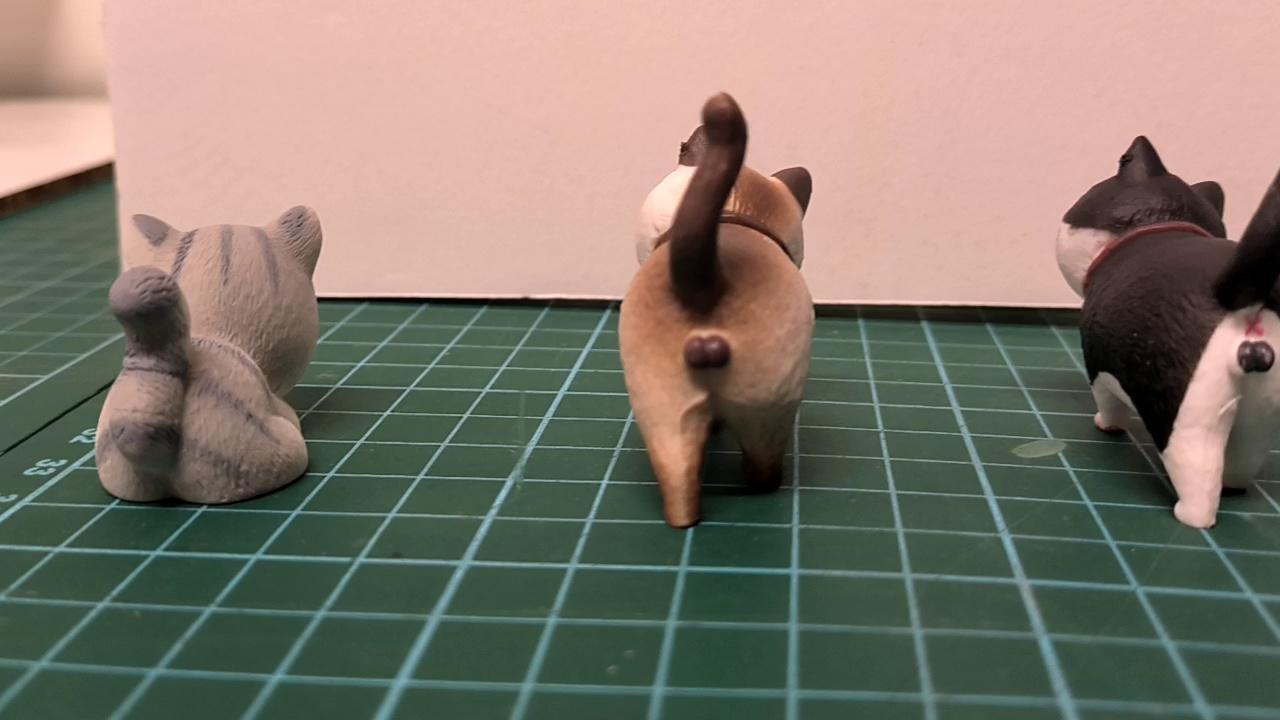pet: (1052, 131, 1280, 529), (615, 90, 820, 532), (87, 201, 330, 506)
